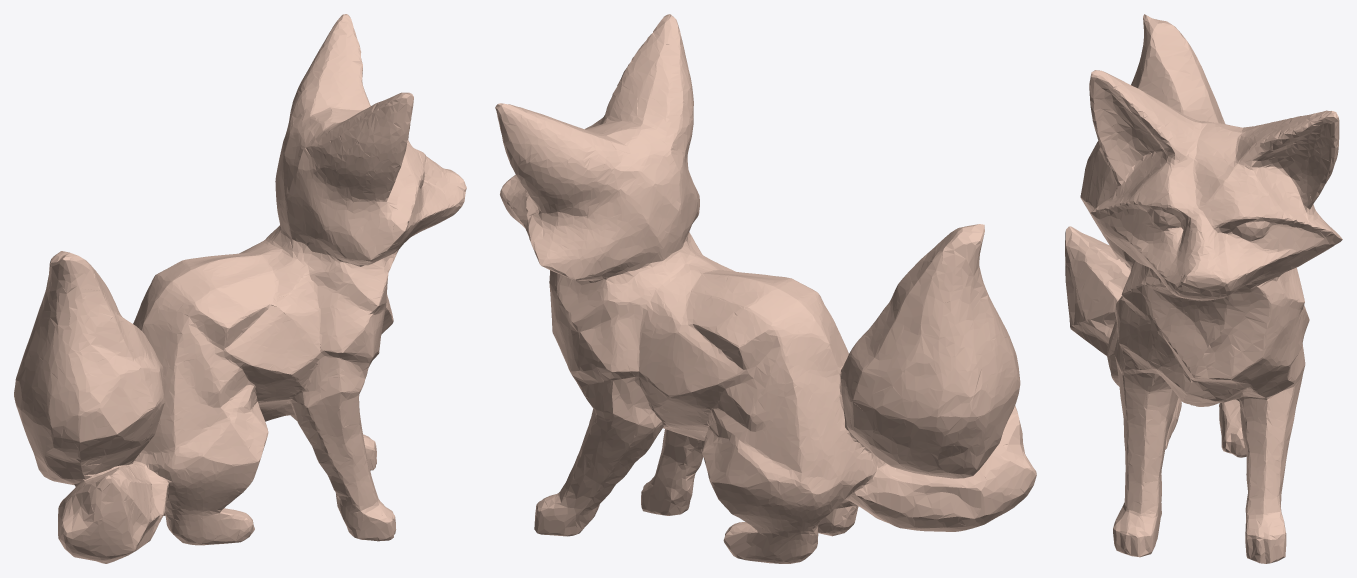
File: fox_a-low-poly-fox-figurine.glb
3 views of the same model, side by side, from view 1: azimuth 30°, elevation 25°; view 2: azimuth 150°, elevation 25°; view 3: azimuth 270°, elevation 25° (orthographic). The views are drawn at different scales.
Visible parts, largest first — view 1: world; view 2: world; view 3: world.
Part boxes in pixels (x1,y1,x2,y2): world: (14,14,466,563); world: (495,14,1036,563); world: (1065,14,1342,563).
Size of the model in its own units: 1.99 by 1.93 by 1.
